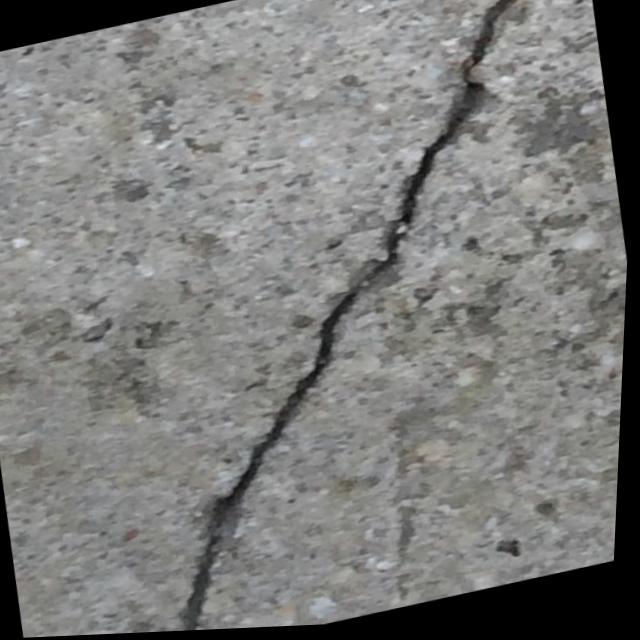Crack: (79, 0, 640, 636)
